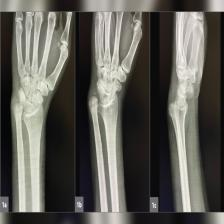fracture-dislocation: (0, 12, 222, 211)
